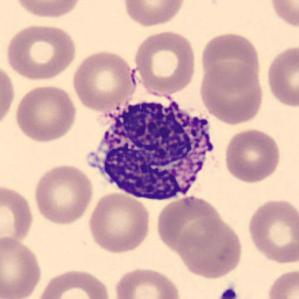Basophil: (80, 88, 223, 206)
Platelets: (218, 286, 239, 299)
RBC: (3, 21, 78, 82), (131, 28, 199, 95), (86, 190, 153, 255), (198, 61, 266, 125), (70, 48, 138, 111), (154, 194, 225, 254), (176, 217, 244, 279), (32, 161, 94, 226), (13, 83, 79, 144), (198, 30, 262, 90), (245, 197, 298, 265), (222, 126, 282, 184), (0, 234, 44, 299), (35, 267, 112, 299), (111, 265, 183, 299), (0, 182, 36, 249), (264, 43, 298, 109), (120, 0, 187, 28), (10, 0, 85, 20), (0, 59, 17, 131), (264, 267, 299, 299), (267, 0, 299, 30)
